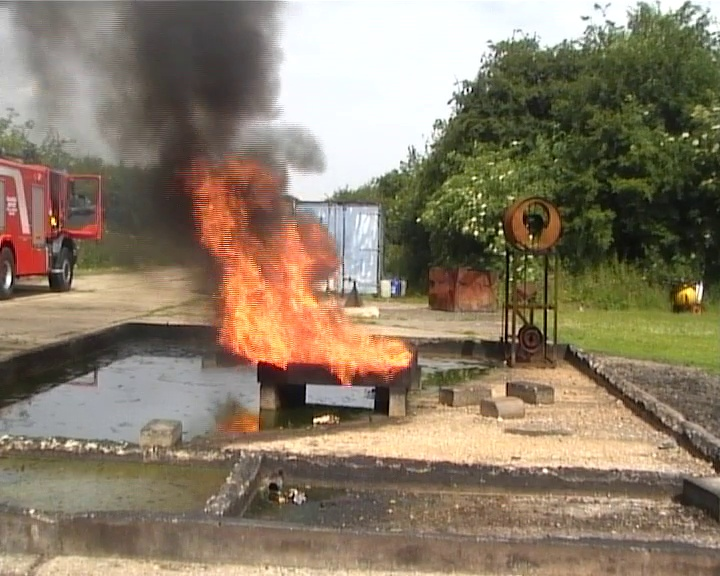fire: (202, 194, 407, 367)
